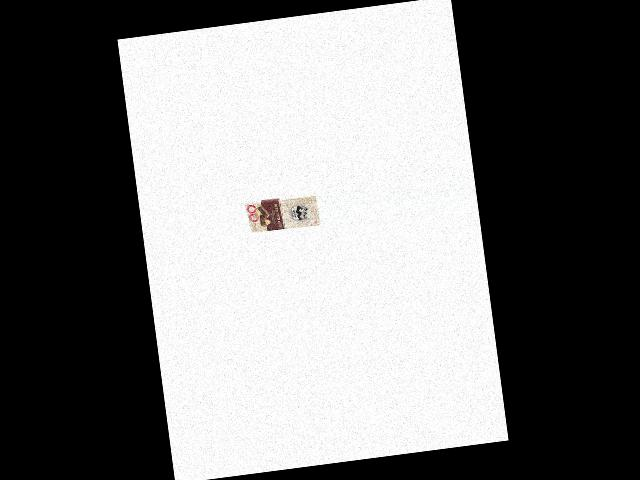chocolate: (242, 187, 320, 235)
